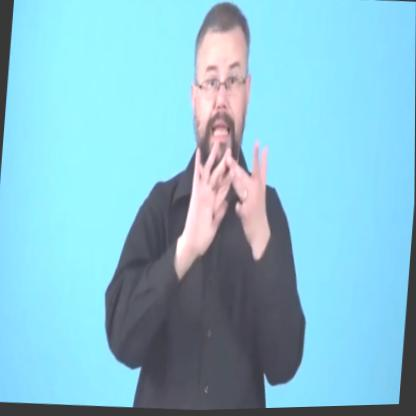Internet: (168, 105, 289, 275)
